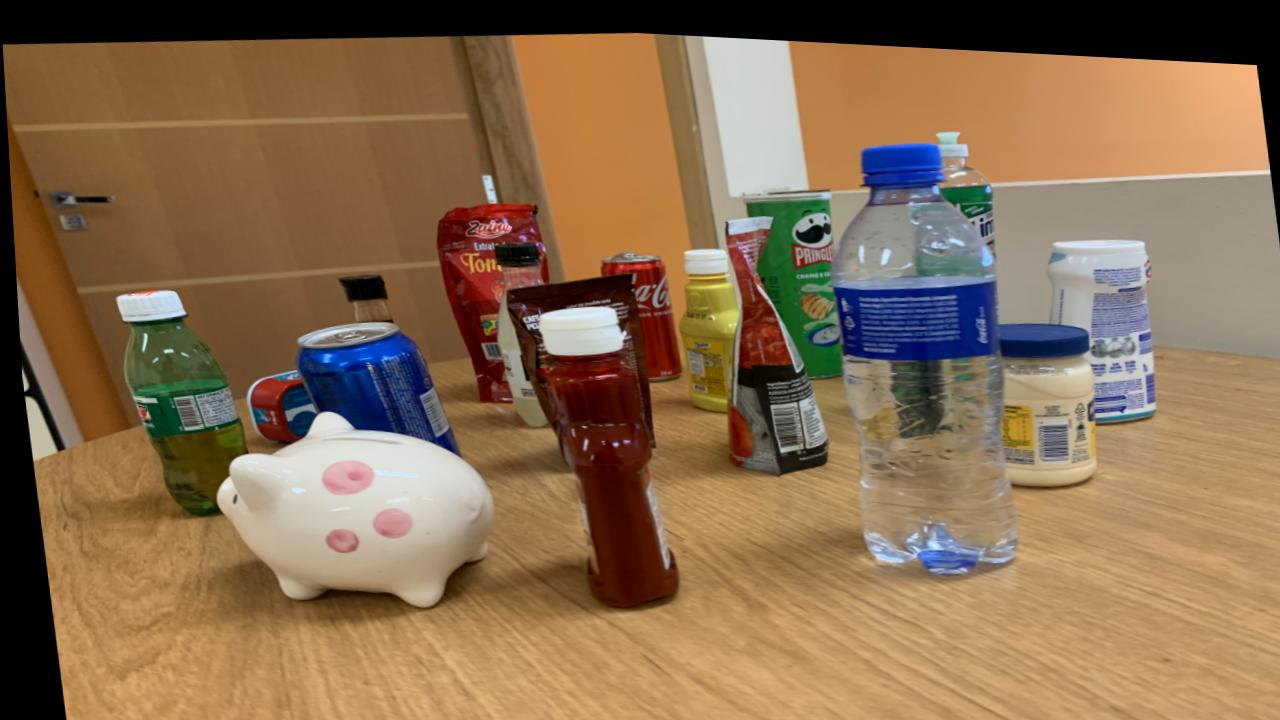Cleaner-Cleanup_Items: (1043, 227, 1152, 411)
Coffee-Pantry_Items: (503, 267, 650, 439)
Coke-Drinks: (597, 244, 677, 375)
Detergent-Cleanup_Items: (935, 121, 993, 245)
English_Sauce-Pantry_Items: (335, 270, 389, 319)
Guarana-Drinks: (113, 288, 240, 513)
Ketchup-Pantry_Items: (534, 299, 672, 600)
Mayonnaise-Pantry_Items: (997, 312, 1092, 475)
Mustard-Pantry_Items: (674, 241, 735, 403)
Pig_Safe-Miscellaneous: (210, 409, 487, 602)
Pringles-Snacks: (741, 180, 838, 369)
Soda-Drinks: (491, 237, 543, 422)
Tomato_Sauce-Pantry_Items: (722, 208, 823, 466), (434, 197, 541, 397)
Tonic-Drinks: (291, 319, 454, 450)
Tuna_Can-Pantry_Items: (241, 369, 313, 439)
Water_Bottle-Drinks: (827, 134, 1012, 564)
